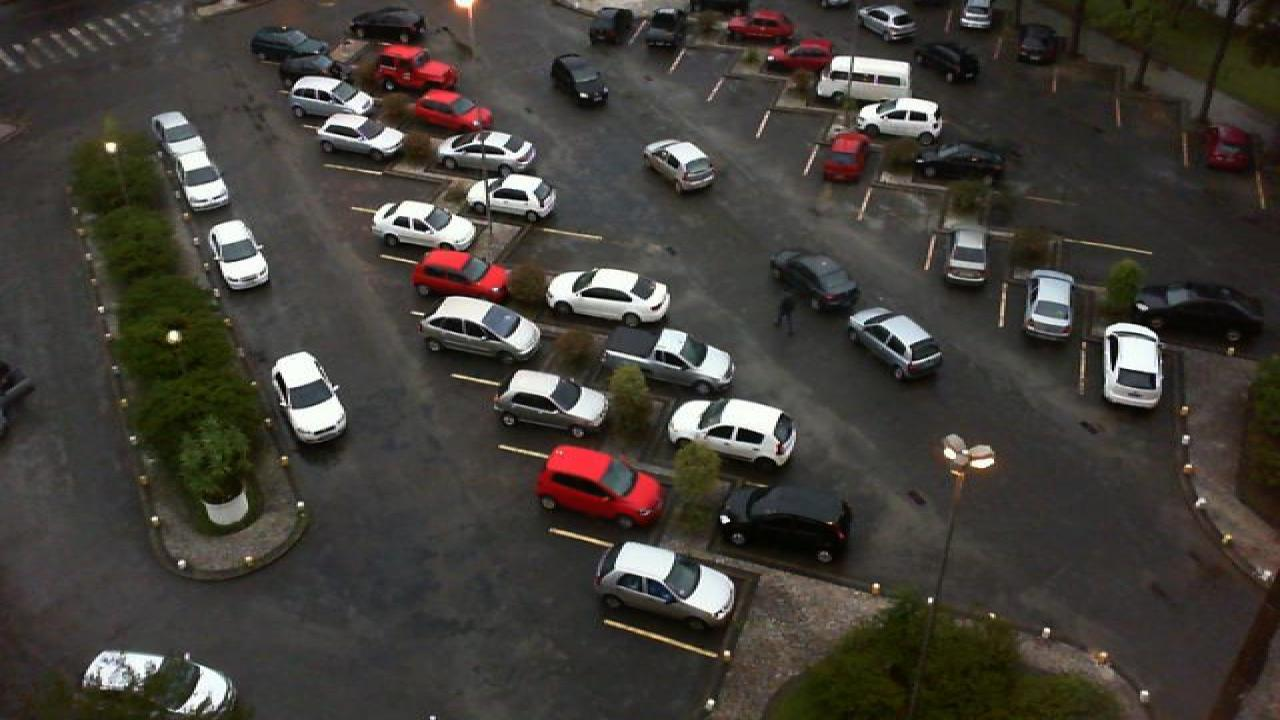Car: (592, 539, 744, 633), (534, 442, 668, 533), (716, 481, 856, 567), (78, 648, 240, 720), (594, 324, 738, 397), (666, 395, 802, 470), (492, 368, 614, 442), (1130, 279, 1270, 343), (544, 266, 674, 330), (418, 296, 544, 360), (846, 306, 948, 382), (270, 350, 350, 445), (770, 247, 864, 314), (368, 198, 480, 254), (408, 248, 514, 306), (1100, 320, 1168, 410), (814, 53, 916, 105), (312, 111, 410, 162), (462, 173, 558, 225), (208, 217, 274, 291), (434, 130, 540, 174), (854, 96, 946, 146), (374, 42, 462, 94), (640, 137, 718, 195), (910, 135, 1010, 180), (1020, 269, 1082, 341), (406, 87, 496, 135), (286, 75, 374, 120), (546, 52, 612, 110), (172, 150, 232, 212), (940, 219, 992, 286), (150, 110, 206, 168), (248, 26, 332, 63), (912, 40, 982, 84), (762, 35, 840, 74), (348, 5, 430, 40), (820, 130, 872, 184), (856, 3, 920, 43), (1204, 124, 1256, 171), (724, 9, 796, 41), (282, 53, 344, 89), (588, 6, 638, 47), (642, 7, 688, 48), (1018, 23, 1062, 63), (682, 0, 728, 34), (958, 0, 996, 30)
